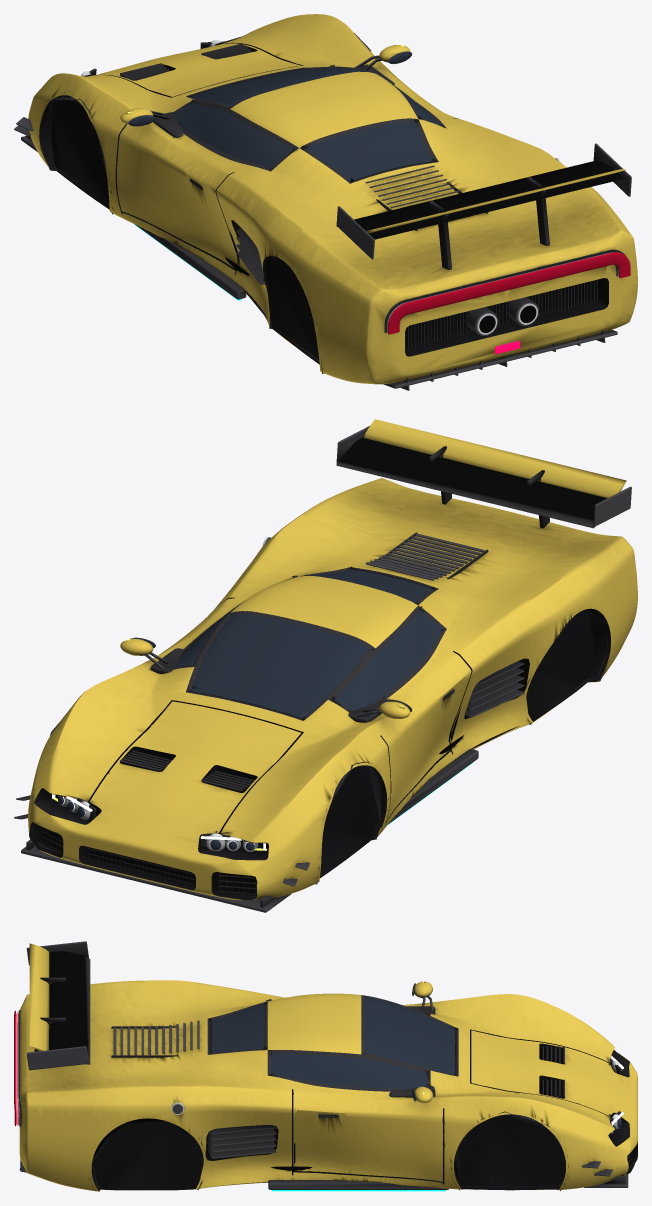
Rendered from hyper_lo.glb.
3 views of the same model, one above another, from view 1: azimuth 30°, elevation 25°; view 2: azimuth 150°, elevation 25°; view 3: azimuth 270°, elevation 25° (orthographic). The views are drawn at different scales.
Parts seen in each view (by area): view 1: body, glass_panes, wing, tail_lens, object 11, cabin_skin, part.081, part.119, wing.001, tail_housing, part.092, dash (+1 smaller); view 2: body, glass_panes, wing, wing.001, cabin_skin, part.116, part.119, object 6, part.092, dash; view 3: body, glass_panes, wing, wing.001, cabin_skin, part.121, part.095, part.092, part.053, part.054, part.055, part.056 (+2 smaller).
Part boxes in pixels (x1,y1,x2,y2): body: (28, 14, 637, 384); glass_panes: (176, 68, 440, 180); wing: (336, 160, 624, 239); tail_lens: (388, 252, 630, 334); object 11: (405, 279, 597, 348); cabin_skin: (39, 33, 608, 373); part.081: (383, 330, 617, 388); part.119: (134, 224, 246, 299); wing.001: (366, 169, 625, 233); tail_housing: (384, 249, 625, 332); part.092: (336, 206, 374, 259); dash: (153, 64, 394, 137); body: (28, 478, 637, 900); glass_panes: (175, 569, 441, 718); wing: (336, 437, 607, 528); wing.001: (364, 419, 626, 498); cabin_skin: (31, 566, 610, 898); part.116: (21, 846, 291, 912); part.119: (388, 749, 478, 824); object 6: (86, 846, 195, 885); part.092: (593, 486, 631, 526); dash: (150, 648, 391, 722); body: (19, 980, 637, 1191); glass_panes: (211, 996, 455, 1089); wing: (35, 951, 90, 1064); wing.001: (29, 943, 49, 1050); cabin_skin: (91, 999, 635, 1190); part.121: (268, 1180, 448, 1189); part.095: (26, 1046, 88, 1070); part.092: (26, 941, 88, 965); part.053: (206, 1147, 276, 1158); part.054: (206, 1141, 276, 1152); part.055: (206, 1135, 276, 1146); part.056: (208, 1129, 276, 1140).
Bounding box in the file's own units: 2.18 × 1.26 × 4.75.
